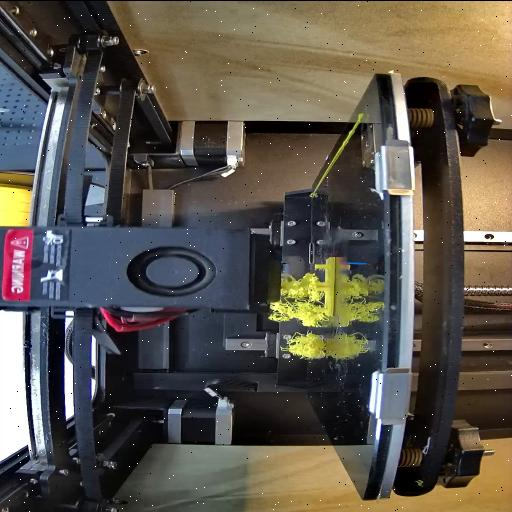spaghetti: (269, 272, 324, 326), (279, 328, 327, 362)
